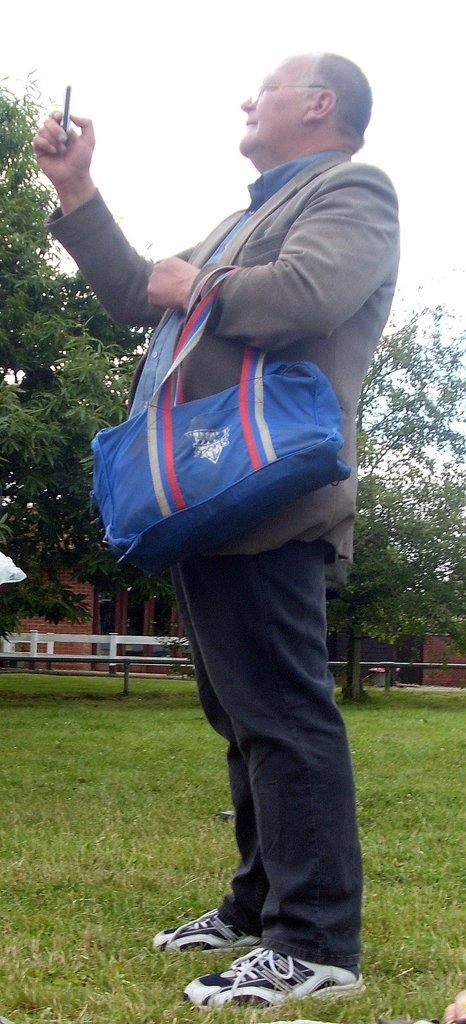Luggage-and-bags: (87, 264, 350, 581)
